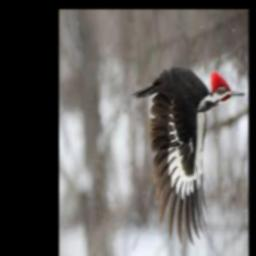Woodpecker: (132, 68, 246, 243)
